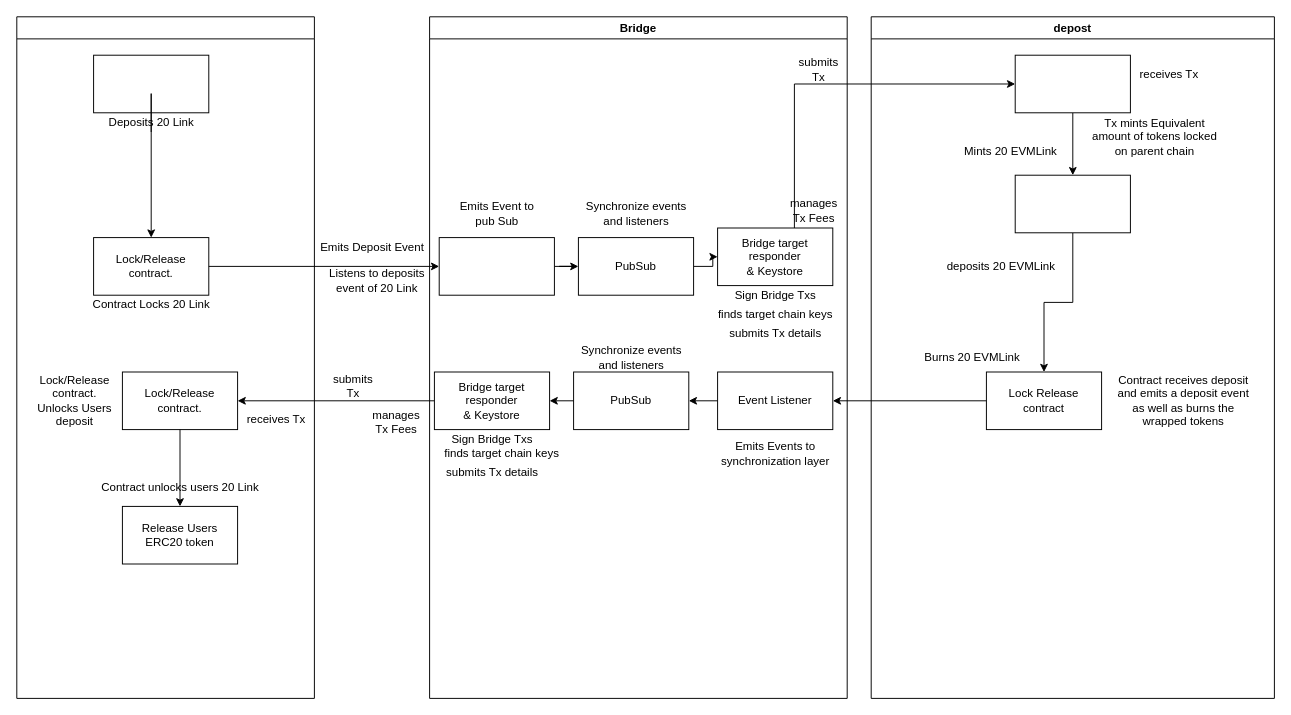
The diagram is 1291 pixels wide and 715 high, and some of its shapes have lost their labels. Each missing label, with the box of its shape:
Ethereum: (16, 16, 314, 698)
Event Listner: (438, 237, 554, 295)
Lock/Release contract. receives & mints: (1014, 54, 1130, 113)
User Deposits ERC20 token into BridgeLock contract: (93, 54, 209, 113)
user Recives Wrapped bridged token: (1014, 174, 1130, 233)
